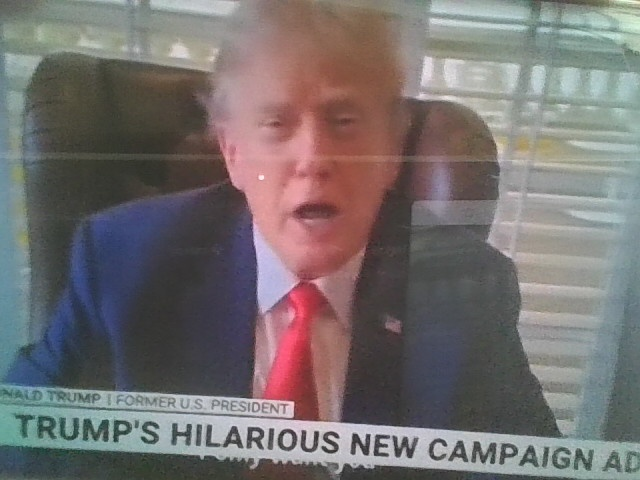fake: (201, 0, 424, 316)
